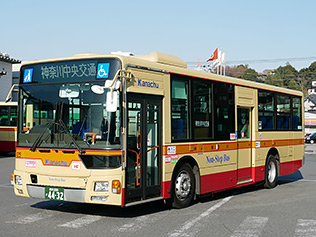destination: (34, 60, 96, 82)
